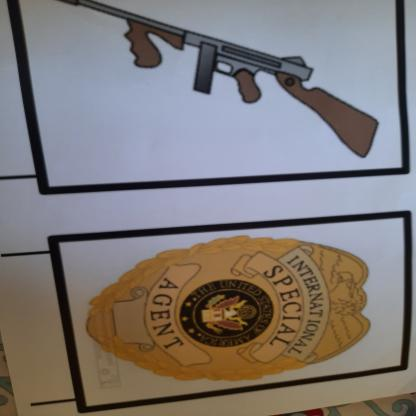Bootlegger: (46, 1, 397, 167)
G-man: (67, 230, 384, 383)
